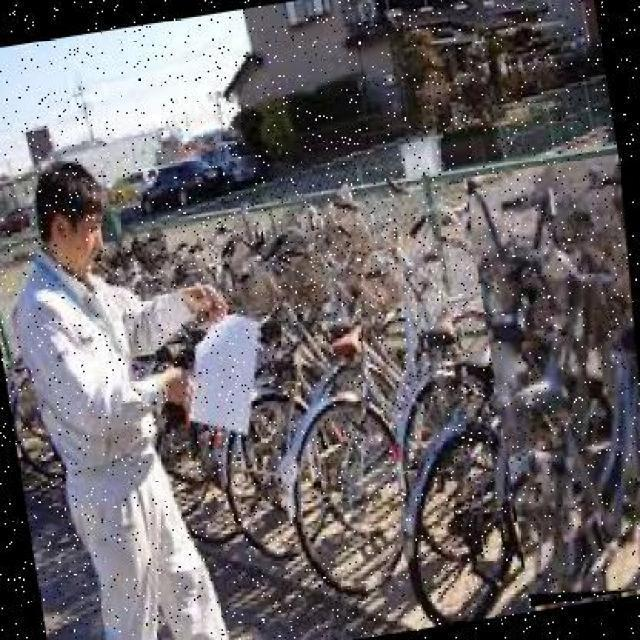bicycle: (461, 155, 640, 612)
